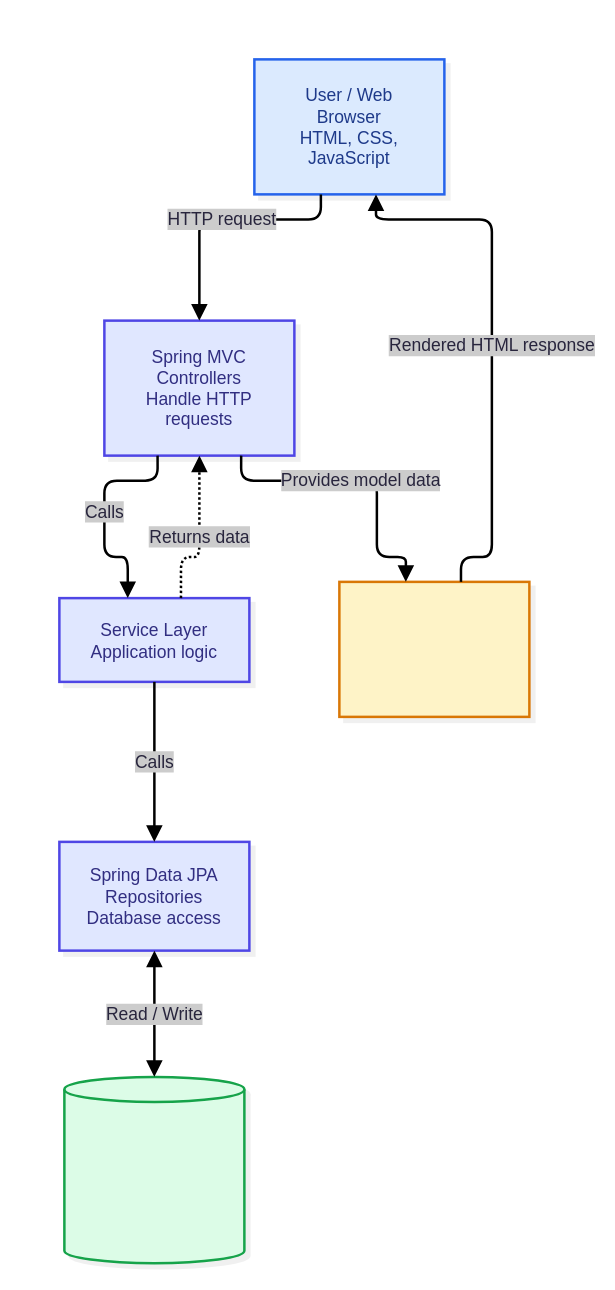
This 615x1290 diagram has some shape labels left out. The shapes that lost their labels are listed below. From the top down, each one's centre as x and y in pixels, then its label:
At pixel 436 651: "Thymeleaf Templates Server-side HTML rendering".
At pixel 156 1172: "PostgreSQL Database 7 relational tables".
